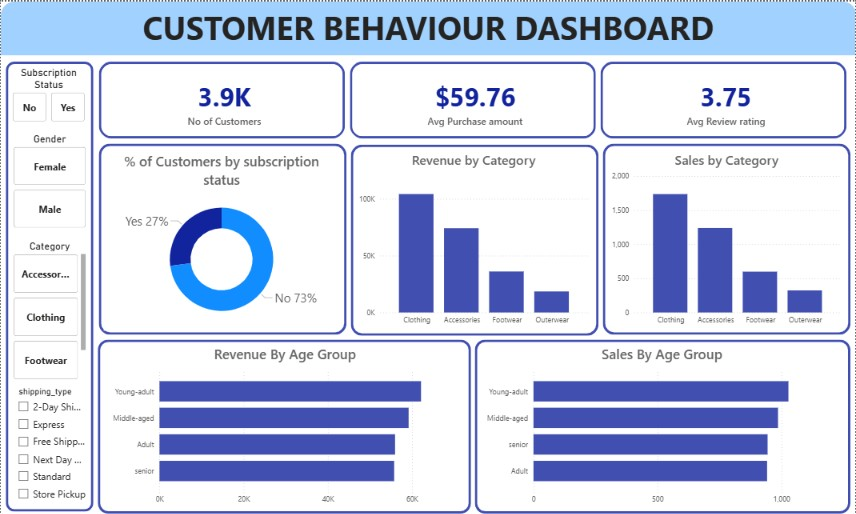

Layout of this report page (visuals, bound fields, positions):
{"tool":"powerbi","page":{"name":"Page 1","canvas":[1425,854],"ordinal":0},"visuals":[{"type":"cardVisual","fields":{"Data":["public customer.No of Customers","public customer.Avg Purchase amount","public customer.Avg Review rating"]},"box":[146,84,1280,162],"z":0},{"type":"shape","box":[0,0,1426,90],"z":1000},{"type":"shape","box":[162.6,237.4,412.9,318.6],"z":3000},{"type":"donutChart","title":"% of Customers by subscription status","fields":{"Category":["public customer.subscription_status"],"Y":["CountNonNull(public customer.customer_id)"]},"box":[171.2,250.2,392.9,298.6],"z":4000},{"type":"shape","box":[582.6,238.8,412.9,318.6],"z":5000},{"type":"shape","box":[1004.1,237.4,412.9,318.6],"z":6000},{"type":"clusteredColumnChart","title":"Revenue by Category","fields":{"Y":["Sum(public customer.purchase_amount)"],"Category":["public customer.category"]},"box":[591.2,248.8,392.9,300],"z":7000},{"type":"clusteredColumnChart","title":"Sales by Category","fields":{"Y":["CountNonNull(public customer.customer_id)"],"Category":["public customer.category"]},"box":[1012.6,248.8,392.9,300],"z":8000},{"type":"shape","box":[8,100,146,750],"z":9000},{"type":"advancedSlicerVisual","title":"Subscription Status","fields":{"Values":["public customer.subscription_status"]},"box":[15,108.3,130,96.7],"z":10000},{"type":"advancedSlicerVisual","title":"Category","fields":{"Values":["public customer.category"]},"box":[16,396,130,240],"z":11000},{"type":"advancedSlicerVisual","title":"Gender","fields":{"Values":["public customer.gender"]},"box":[16,218,130,164],"z":12000},{"type":"slicer","fields":{"Values":["public customer.shipping_type"]},"box":[16,636,130,204],"z":13000},{"type":"shape","box":[162,564,622,290],"z":15000},{"type":"clusteredBarChart","title":"Revenue By Age Group","fields":{"Category":["public customer.age_group"],"Y":["Sum(public customer.purchase_amount)"]},"box":[176,572,594,276],"z":15001},{"type":"shape","box":[790,564,626,290],"z":15002},{"type":"clusteredBarChart","title":"Sales By Age Group","fields":{"Category":["public customer.age_group"],"Y":["CountNonNull(public customer.customer_id)"]},"box":[800,572,604,276],"z":15004},{"type":"textbox","box":[232,2,962,88],"z":15005}]}

Visuals, with their boxes in screenshot pixels (x1, y1, x2, y2), scaled from the page's 1425x854 canvas onto the 856x514 screenshot:
cardVisual - public customer.No of Customers x public customer.Avg Purchase amount: <region>88, 51, 855, 148</region>
shape: <region>0, 0, 855, 54</region>
shape: <region>98, 143, 346, 335</region>
"% of Customers by subscription status" donutChart: <region>103, 151, 339, 330</region>
shape: <region>350, 144, 598, 335</region>
shape: <region>603, 143, 851, 335</region>
"Revenue by Category" clusteredColumnChart: <region>355, 150, 591, 330</region>
"Sales by Category" clusteredColumnChart: <region>608, 150, 844, 330</region>
shape: <region>5, 60, 93, 512</region>
"Subscription Status" advancedSlicerVisual: <region>9, 65, 87, 123</region>
"Category" advancedSlicerVisual: <region>10, 238, 88, 383</region>
"Gender" advancedSlicerVisual: <region>10, 131, 88, 230</region>
slicer - public customer.shipping_type: <region>10, 383, 88, 506</region>
shape: <region>97, 339, 471, 513</region>
"Revenue By Age Group" clusteredBarChart: <region>106, 344, 463, 510</region>
shape: <region>475, 339, 851, 513</region>
"Sales By Age Group" clusteredBarChart: <region>481, 344, 843, 510</region>
textbox: <region>139, 1, 717, 54</region>
